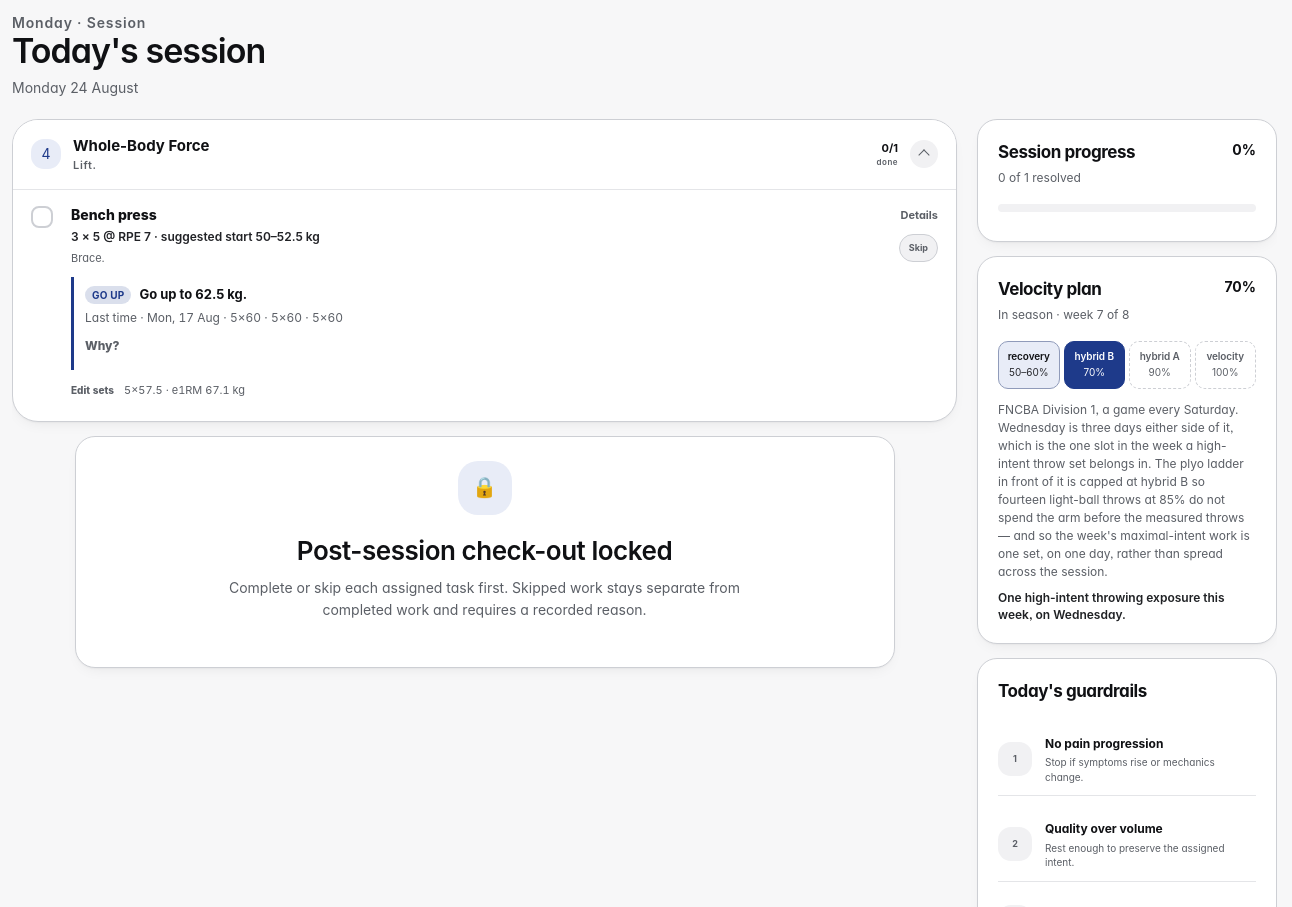
it: what you lifted last time › opens on what was already logged, once there is a log
The image size is (1292, 907).
Click the button "Edit sets": (92, 390) x1=71 y1=376 x2=114 y2=406
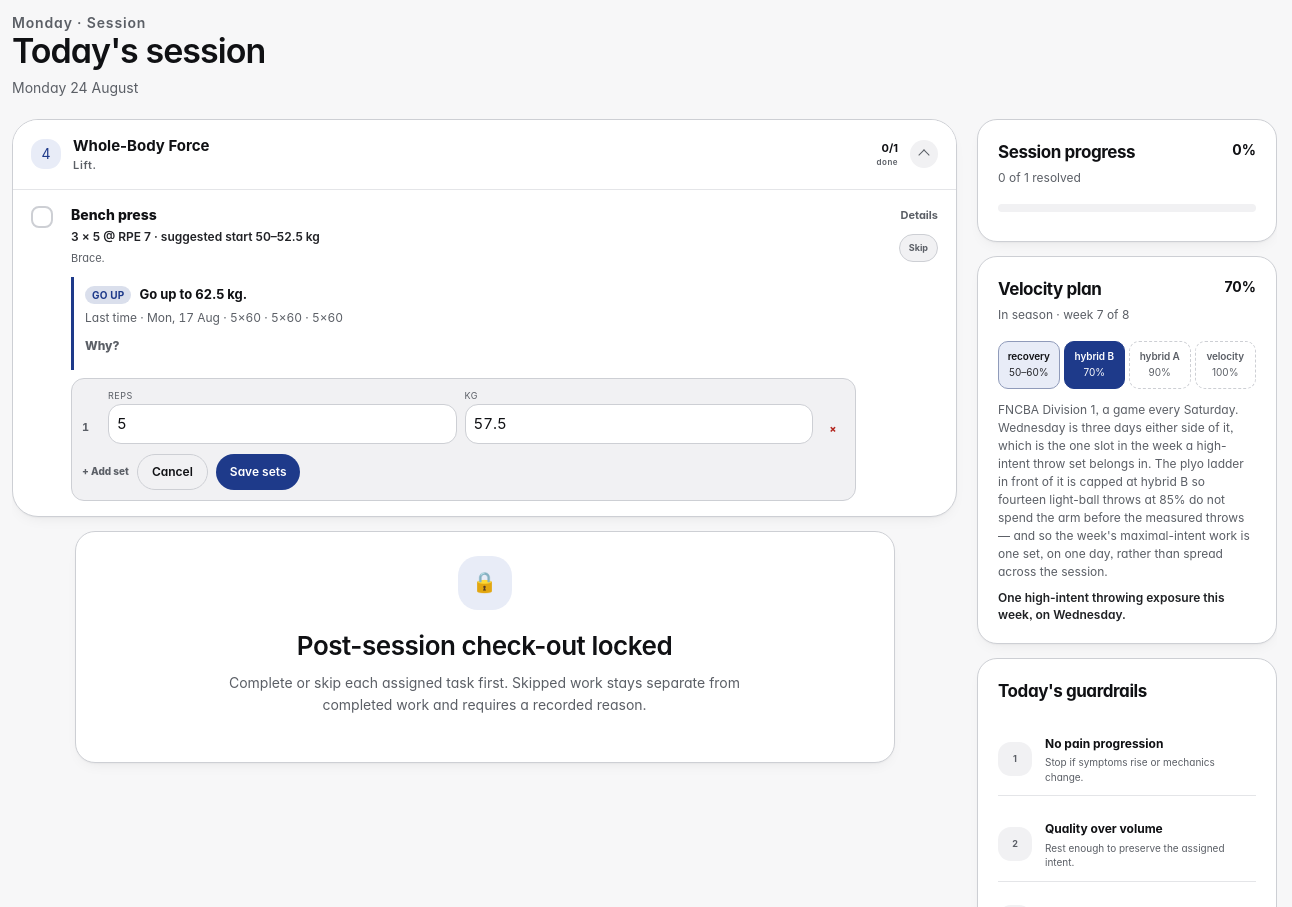
Expected: the number field labelled "kg" holds "57.5", x1=464 y1=404 x2=813 y2=444
